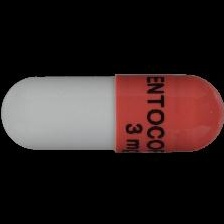65483-702: (0, 0, 224, 224)
